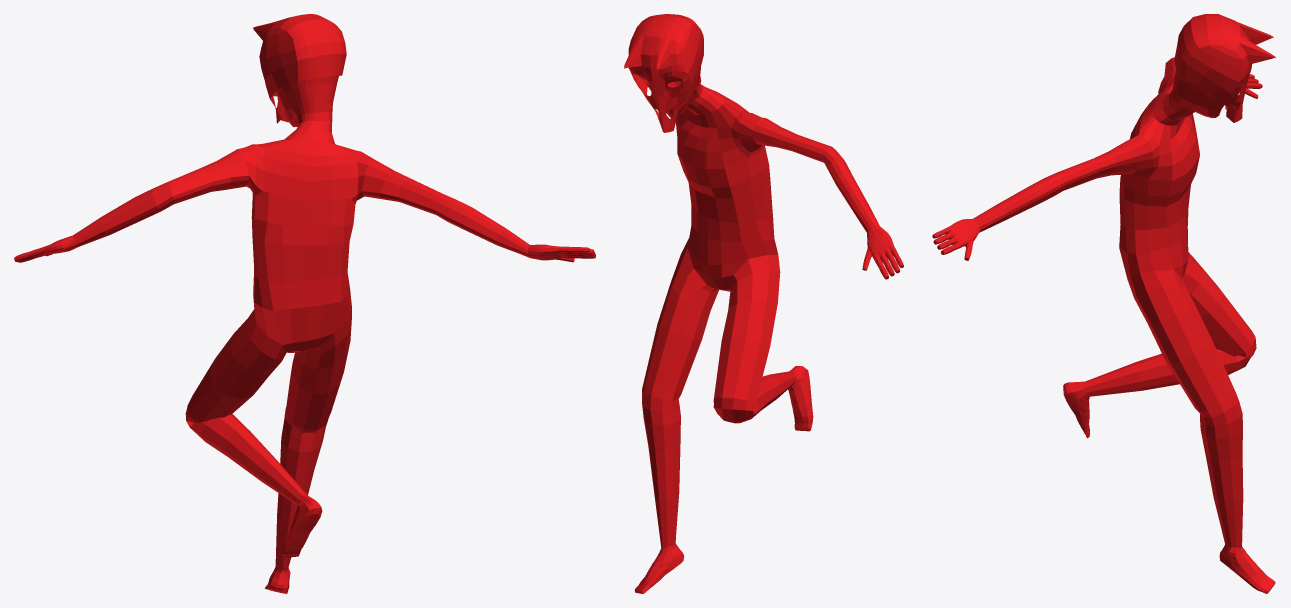
Rendered from saltoadelanteE_000124.obj.
The picture shows the model from 3 angles, left to right: view 1: azimuth 30°, elevation 25°; view 2: azimuth 150°, elevation 25°; view 3: azimuth 270°, elevation 25°; orthographic projection. The views are drawn at different scales.
Visible parts, largest first — view 1: Plane.002_Plane.001; view 2: Plane.002_Plane.001; view 3: Plane.002_Plane.001.
Part boxes in pixels (<box>): Plane.002_Plane.001: <box>14,14,595,593</box>; Plane.002_Plane.001: <box>624,14,903,593</box>; Plane.002_Plane.001: <box>932,14,1275,593</box>.
Size of the model in its own units: 5.15 by 6.96 by 3.8.
